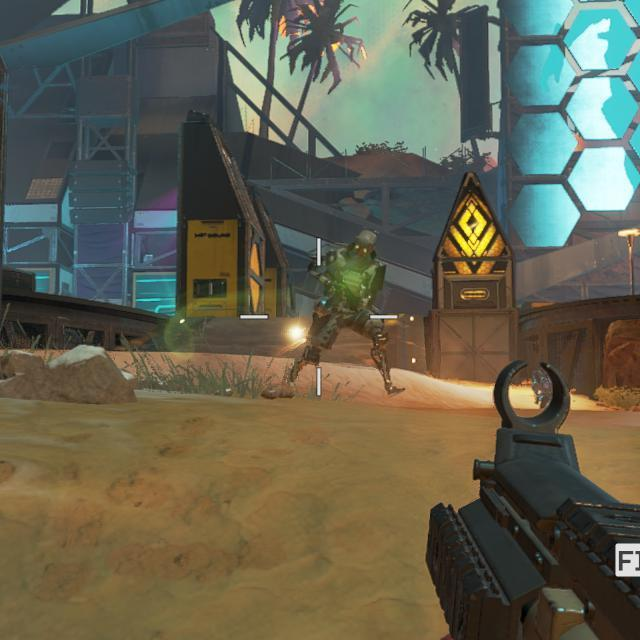avatar: (287, 229, 407, 398)
object: (328, 255, 377, 302)
